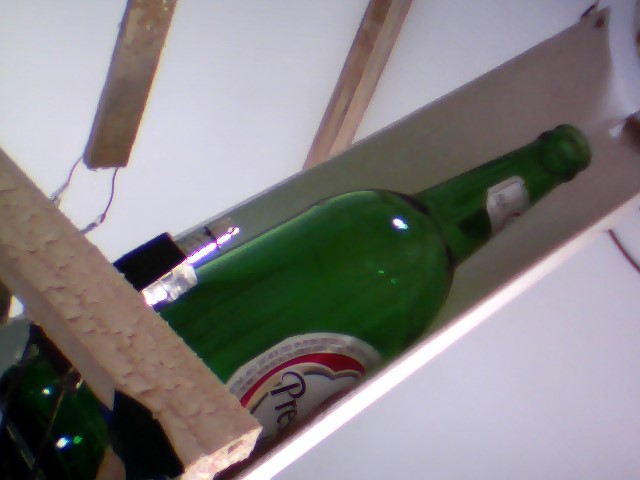vidrio: (209, 116, 598, 453)
